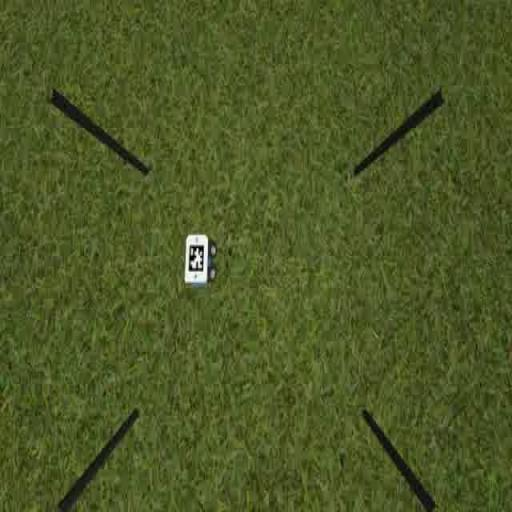UGV: (183, 232, 218, 290)
